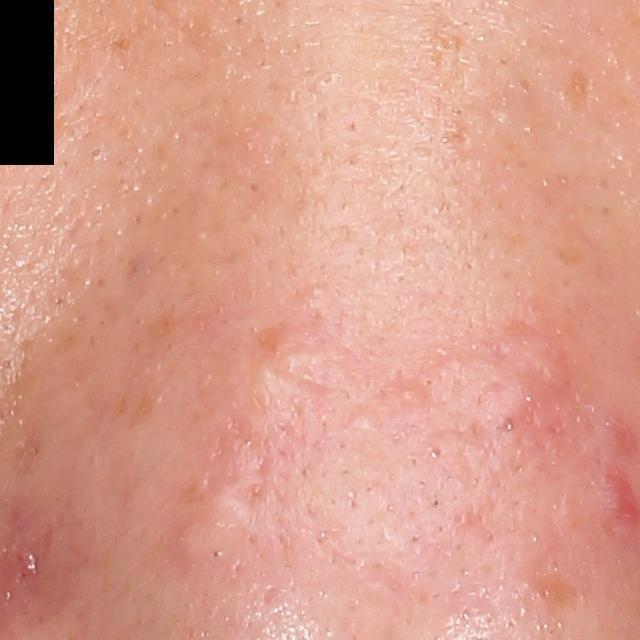hypertrophic_scar: (167, 433, 268, 573), (421, 352, 535, 435), (494, 319, 579, 394), (249, 323, 323, 407)
melasma: (565, 62, 595, 104)
